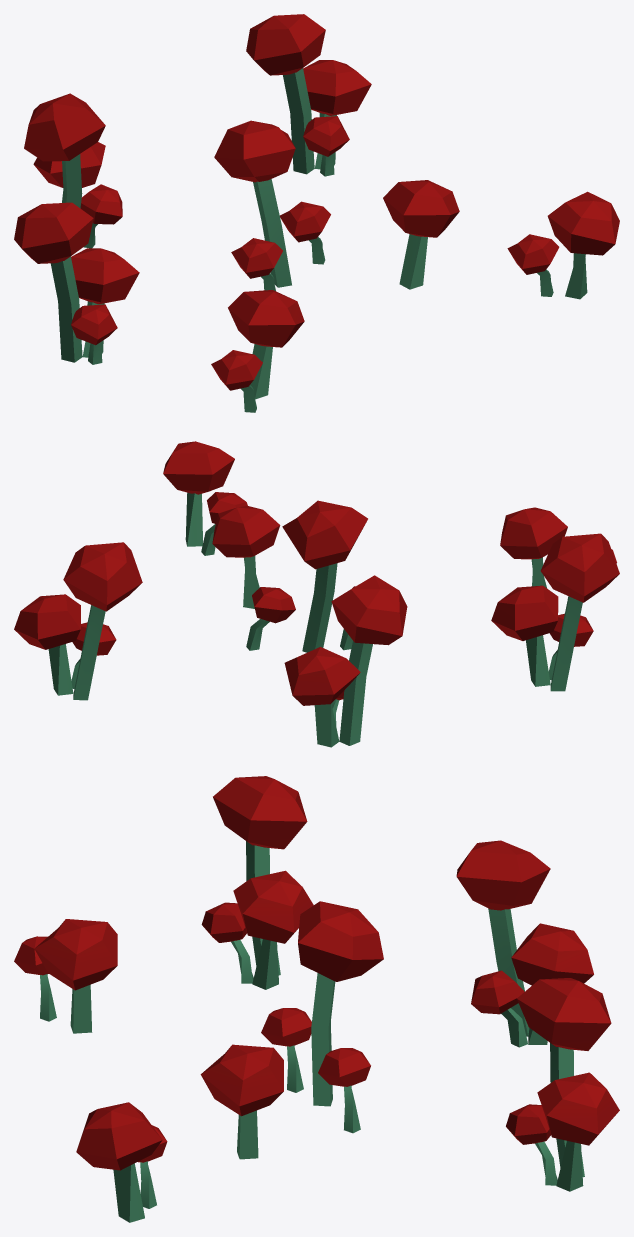
The model's file is SM_Tile_Red_flowers.fbx.
3 views of the same model, one above another, from view 1: azimuth 30°, elevation 25°; view 2: azimuth 150°, elevation 25°; view 3: azimuth 270°, elevation 25° (orthographic). The views are drawn at different scales.
Parts seen in each view (by area): view 1: SM_Flowers_Red; view 2: SM_Flowers_Red; view 3: SM_Flowers_Red.
Part boxes in pixels (bbox=[...]): SM_Flowers_Red: bbox=[14, 14, 619, 412]; SM_Flowers_Red: bbox=[14, 441, 619, 747]; SM_Flowers_Red: bbox=[14, 776, 619, 1222].
Bounding box in the file's own units: 86.47 × 24.44 × 74.86.
